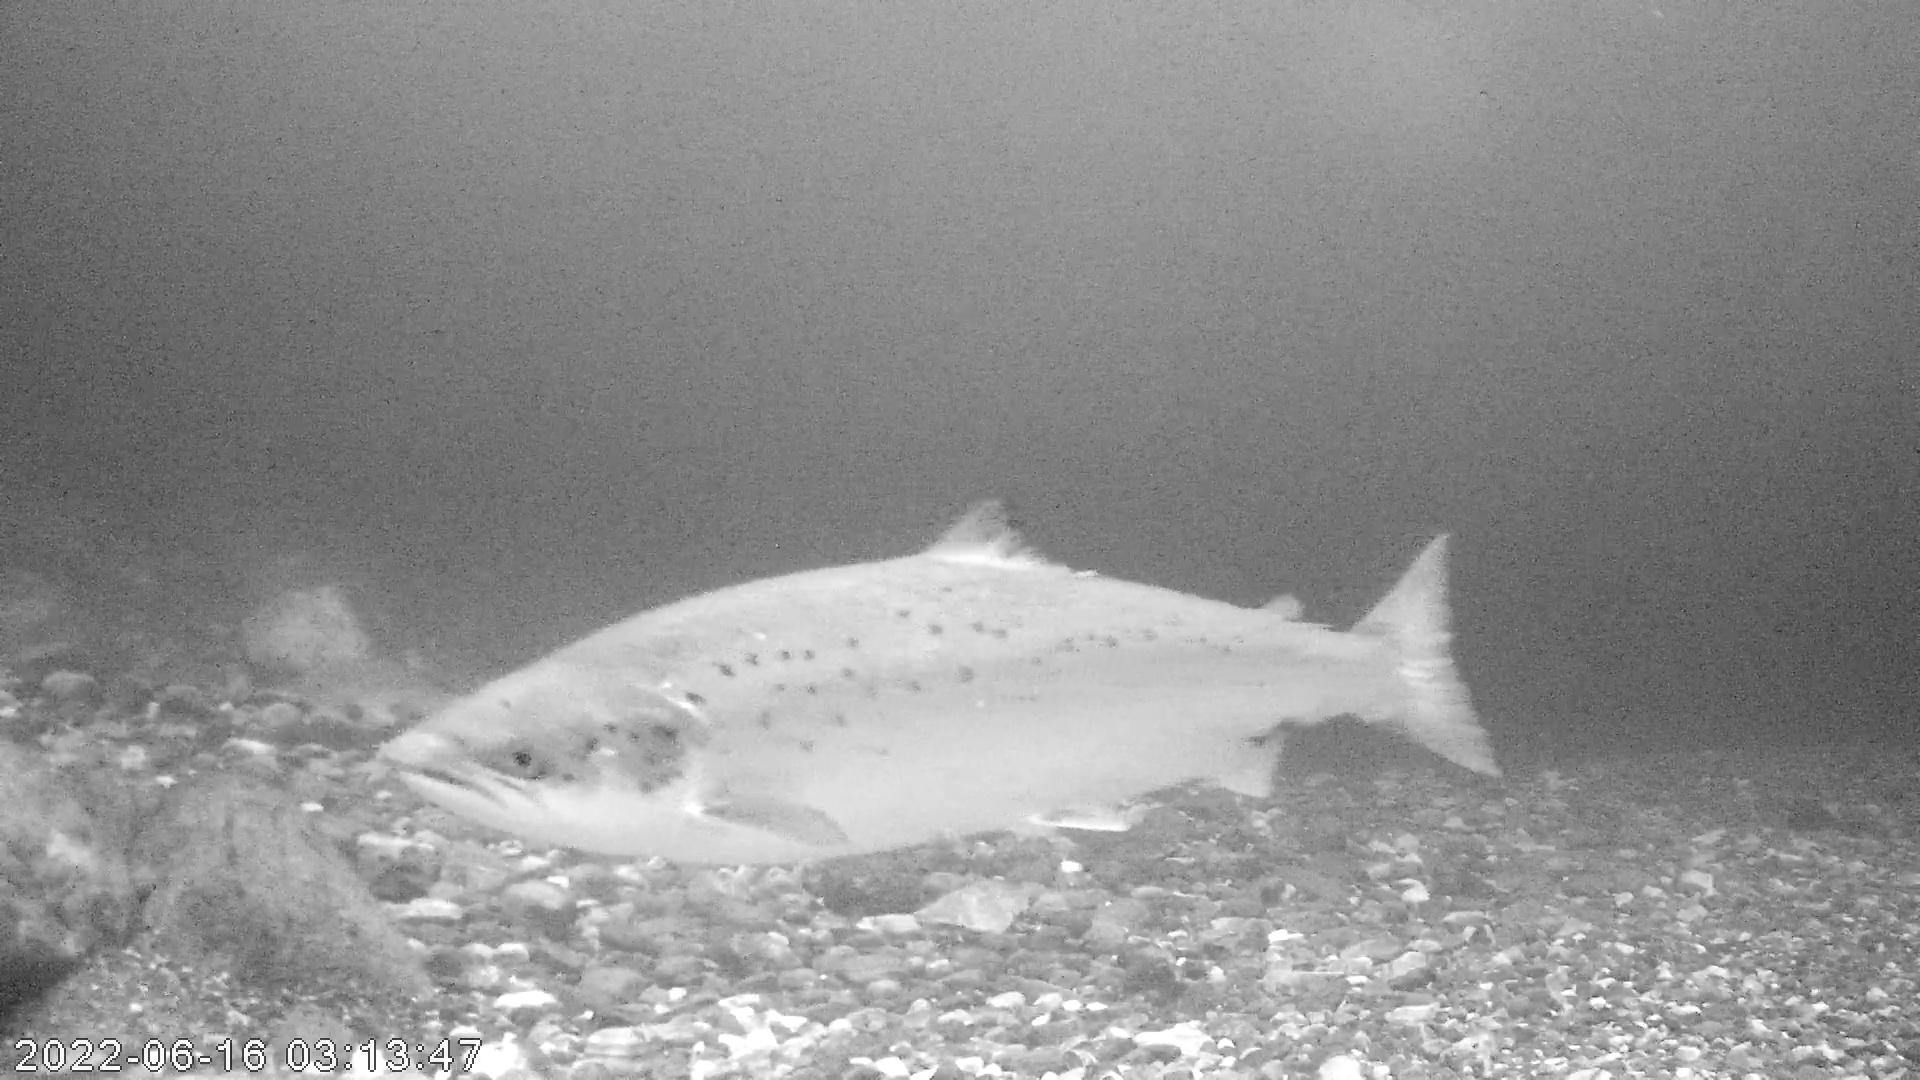salmon: (377, 492, 1502, 869)
